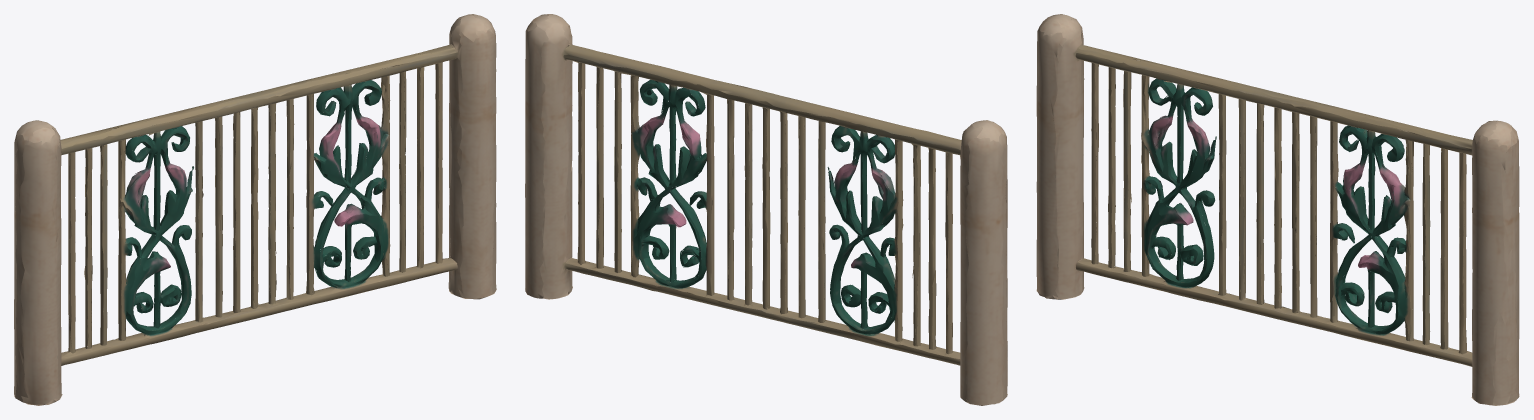
File: unified--fence.glb
3 views of the same model, side by side, from view 1: azimuth 30°, elevation 25°; view 2: azimuth 150°, elevation 25°; view 3: azimuth 330°, elevation 25° (orthographic).
Visible parts, largest first — view 1: fence-1; view 2: fence-1; view 3: fence-1.
Part boxes in pixels (bbox=[...]): fence-1: bbox=[14, 14, 496, 405]; fence-1: bbox=[525, 14, 1007, 405]; fence-1: bbox=[1036, 14, 1519, 405].
Size of the model in its own units: 1.8 by 0.9881 by 0.163.
1 material, 1 textured.
